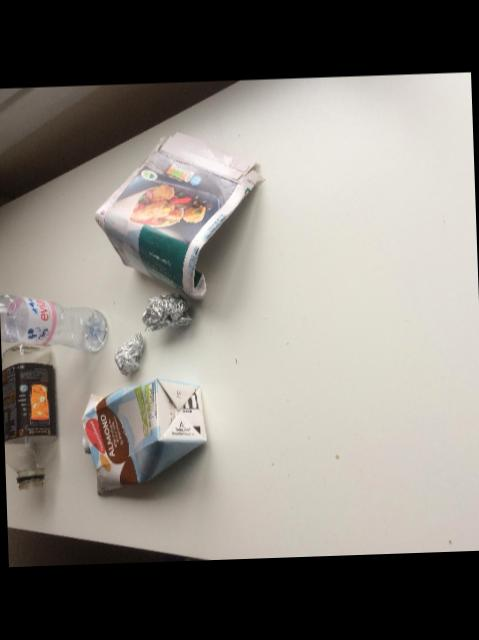cardboard paper: (93, 134, 260, 299), (80, 379, 205, 493)
plastic: (1, 344, 55, 490), (0, 295, 106, 352)
